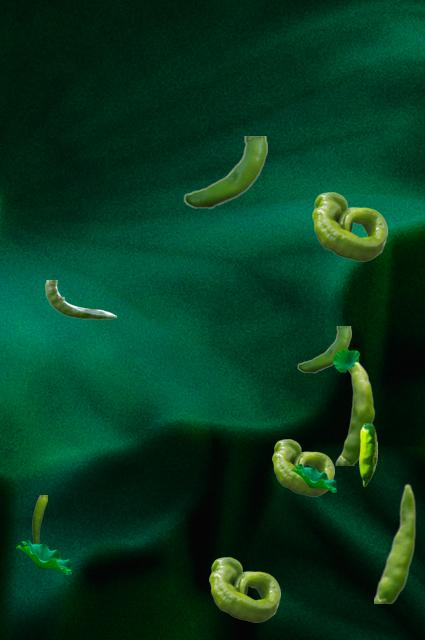green_chili: (183, 136, 266, 208), (312, 192, 386, 260), (374, 483, 415, 602), (209, 557, 279, 621), (335, 362, 374, 464), (272, 439, 333, 495), (45, 280, 115, 318), (297, 326, 350, 372), (359, 423, 376, 485), (32, 495, 46, 543)
